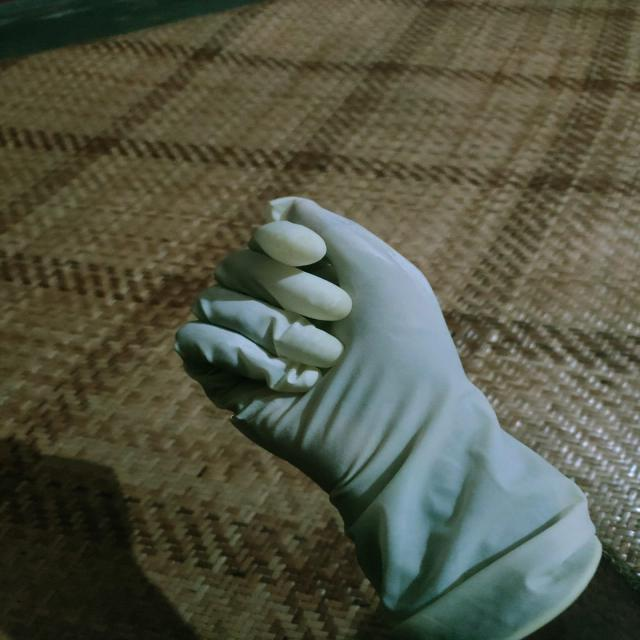gloved_hand: (170, 194, 606, 639)
